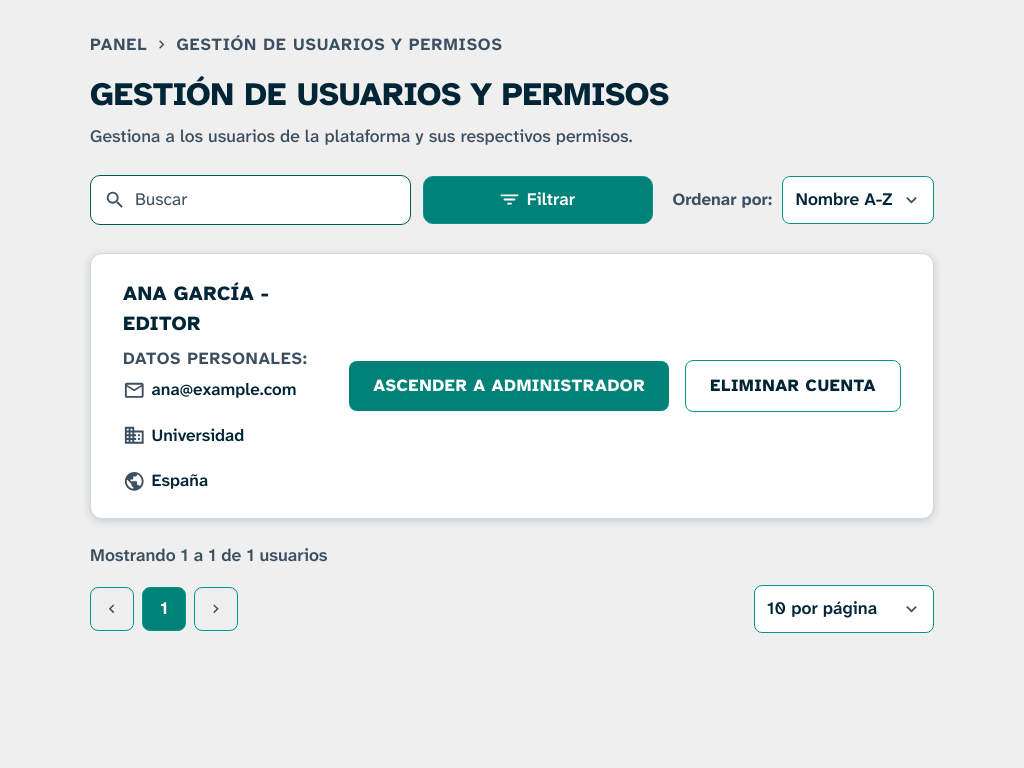
it: UsersManagementPage › muestra el error de eliminación sin retirar al usuario
The width and height of the screenshot is (1024, 768).
What coordinates should you click on to do the following:
click the button "ELIMINAR CUENTA"
I would click on:
 (793, 386)
Its box is 685,360 -> 901,412.
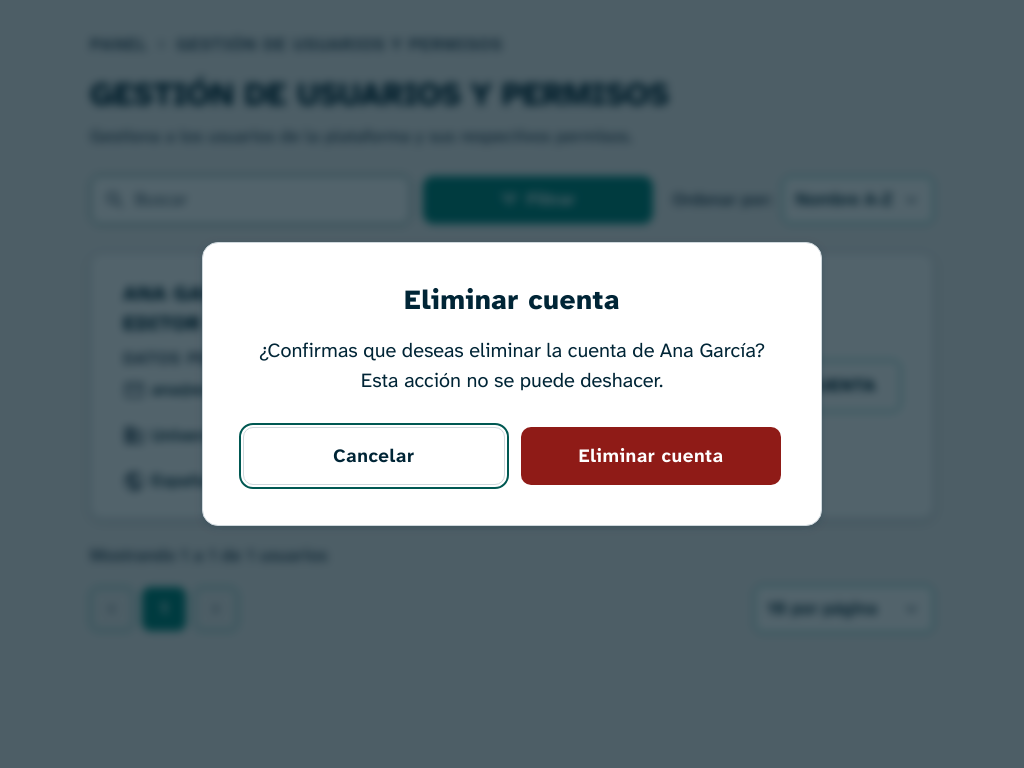
What coordinates should you click on to do the following:
click the button "Eliminar cuenta"
I would click on:
 (651, 456)
Its box is 521,427 -> 781,485.
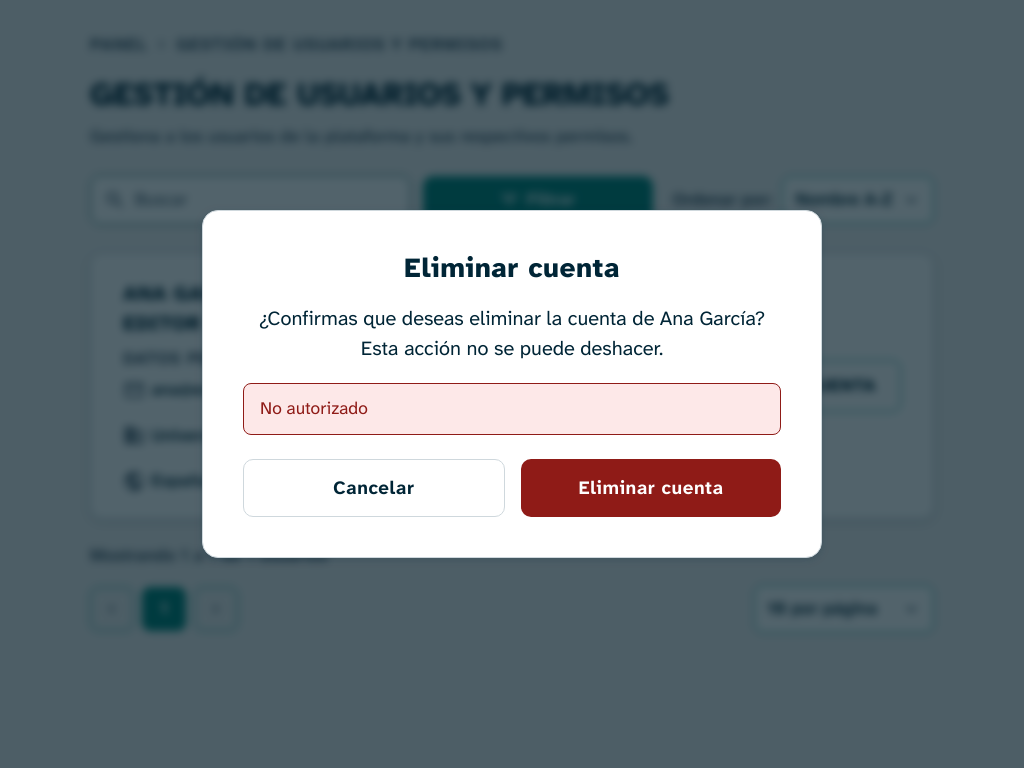
Expected: the heading "ANA GARCÍA - EDITOR" is shown, 123,280 -> 269,336
Expected: the message reads "No autorizado", 260,397 -> 368,420
